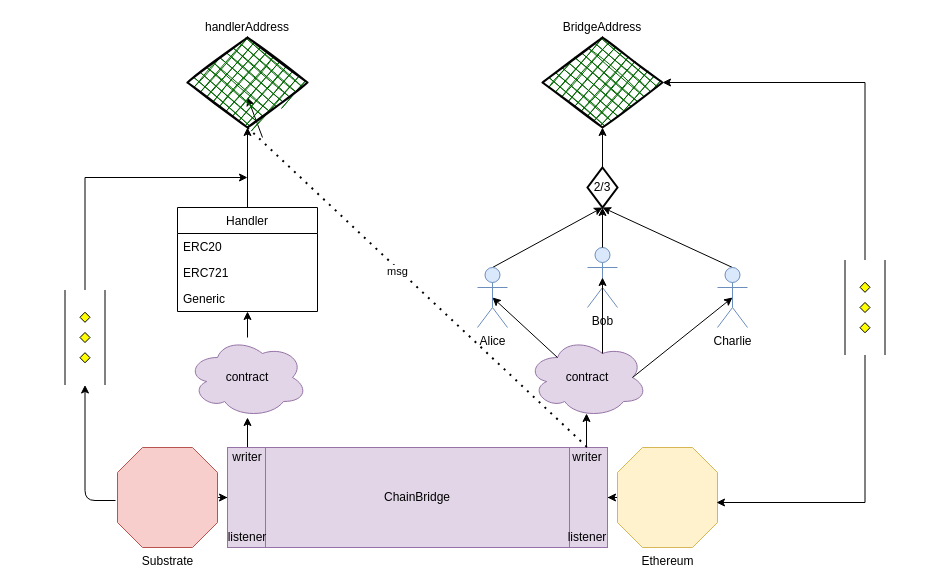
This 944x585 diagram has some shape labels left out. Here are the shapes that lost their labels. From the top down, the centre of each, then its label:
At pixel 864 307: "Pdot".
At pixel 84 337: "dot".
